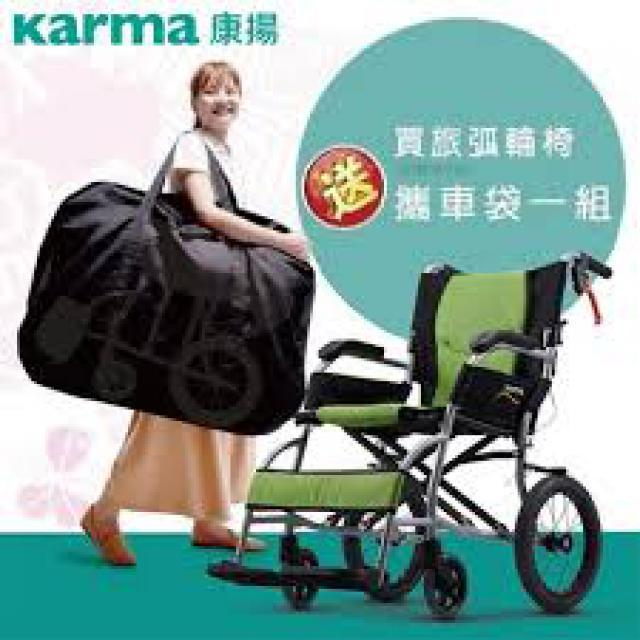wheelchairs: (228, 258, 607, 610)
